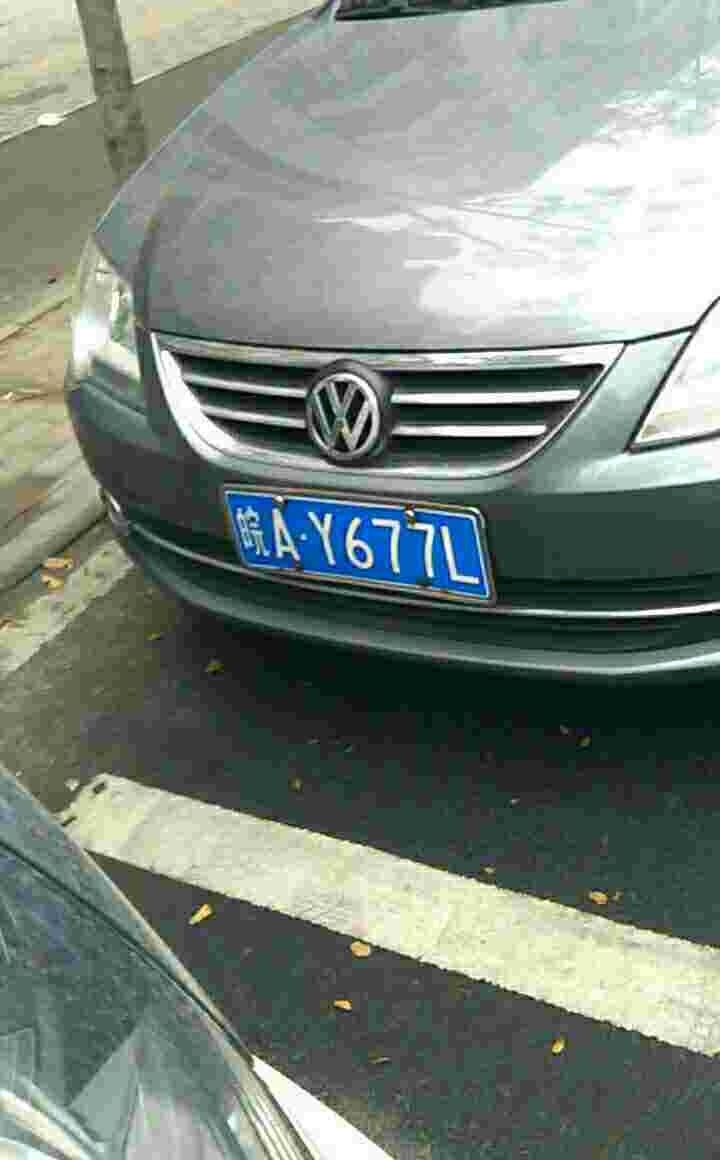car: (214, 487, 498, 599)
